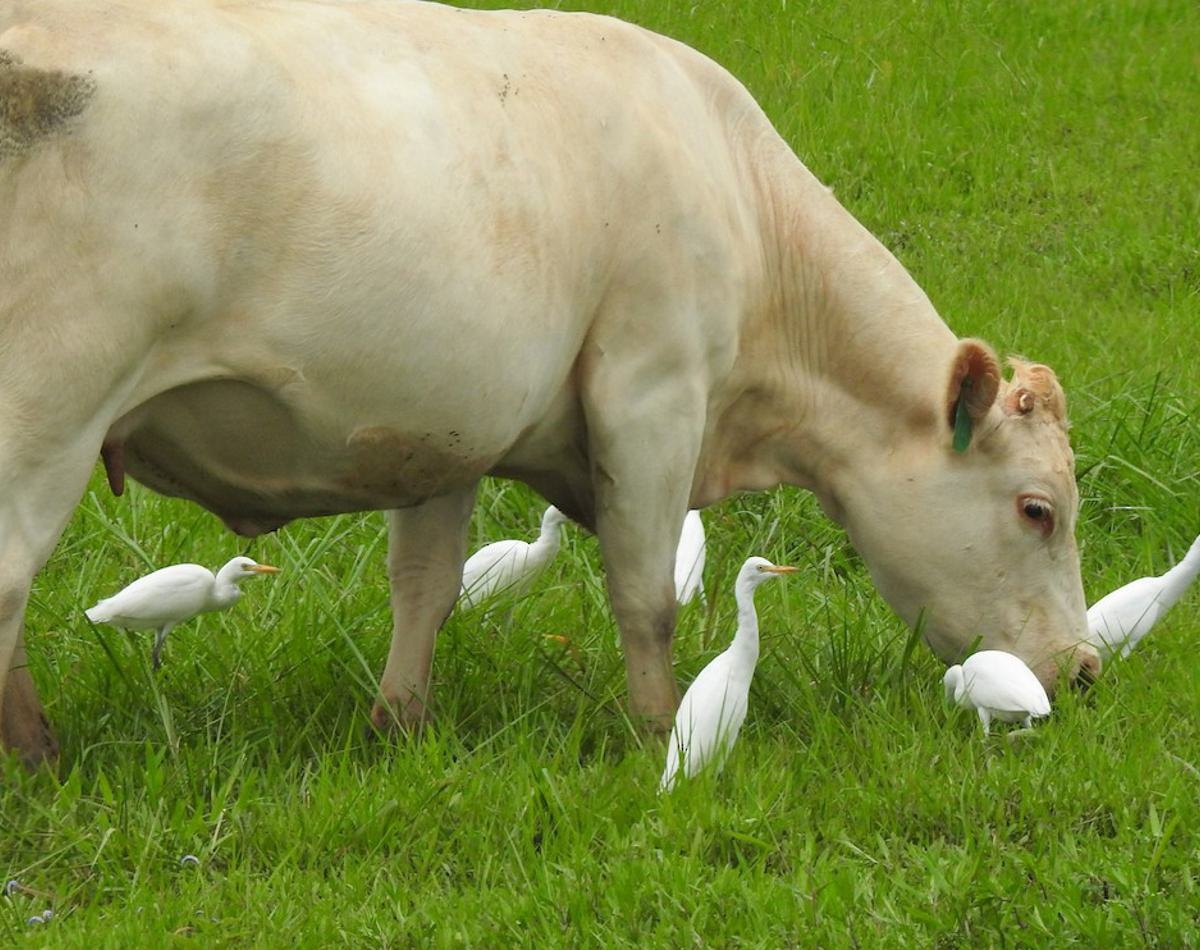egret: (633, 552, 805, 802), (87, 553, 283, 693)
